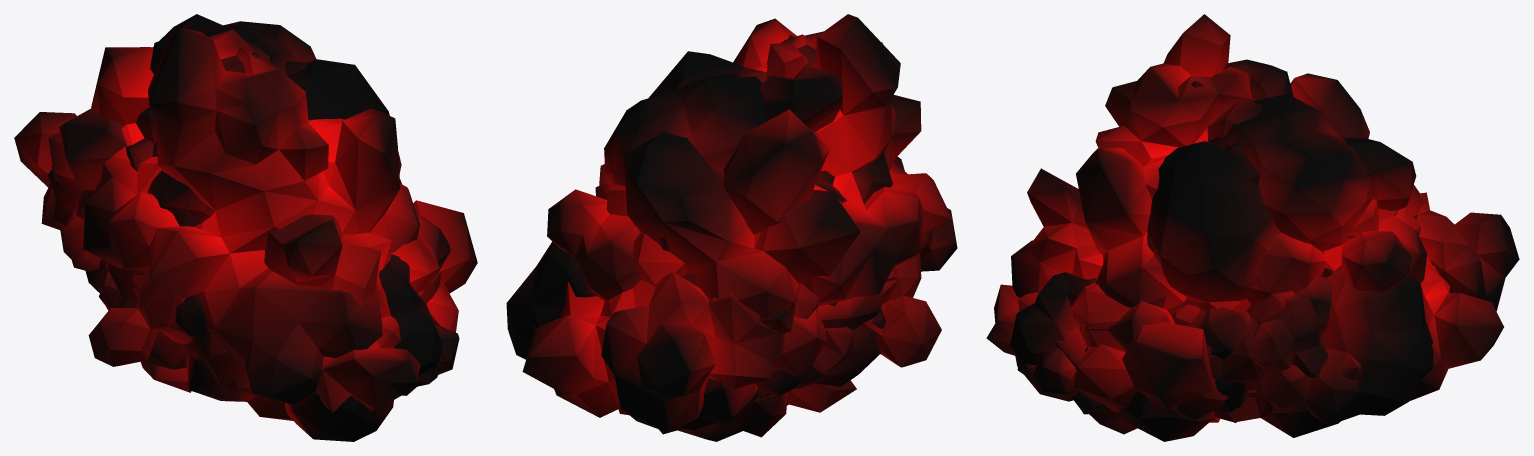
Rendered from Clouds_L.fbx.
The picture shows the model from 3 angles, left to right: view 1: azimuth 30°, elevation 25°; view 2: azimuth 150°, elevation 25°; view 3: azimuth 270°, elevation 25°; orthographic projection. The views are drawn at different scales.
Visible parts, largest first — view 1: Cloud_L_05, Cloud_L_07, Cloud_L_08, Cloud_L_09, Cloud_L_03, Cloud_L_06, Cloud_L_04, Cloud_L_02, Cloud_L_01; view 2: Cloud_L_05, Cloud_L_07, Cloud_L_09, Cloud_L_03, Cloud_L_08, Cloud_L_04, Cloud_L_02, Cloud_L_06; view 3: Cloud_L_05, Cloud_L_07, Cloud_L_09, Cloud_L_08, Cloud_L_03, Cloud_L_04, Cloud_L_01, Cloud_L_06, Cloud_L_02.
Boxes of the visible parts, x1,y1,x2,y2 form: Cloud_L_05: (14,27,419,404); Cloud_L_07: (48,14,477,413); Cloud_L_08: (47,59,450,389); Cloud_L_09: (136,21,459,441); Cloud_L_03: (88,223,202,366); Cloud_L_06: (85,141,442,376); Cloud_L_04: (140,37,293,420); Cloud_L_02: (99,61,416,395); Cloud_L_01: (138,178,402,336); Cloud_L_05: (601,14,957,432); Cloud_L_07: (522,94,921,434); Cloud_L_09: (547,72,837,381); Cloud_L_03: (506,197,941,367); Cloud_L_08: (525,51,892,425); Cloud_L_04: (678,35,856,441); Cloud_L_02: (680,74,885,430); Cloud_L_06: (759,170,834,405); Cloud_L_05: (1011,14,1519,422); Cloud_L_07: (986,137,1503,414); Cloud_L_09: (1015,93,1427,401); Cloud_L_08: (1017,141,1433,383); Cloud_L_03: (1172,265,1432,425); Cloud_L_04: (1088,59,1340,441); Cloud_L_01: (1161,295,1328,419); Cloud_L_06: (1010,272,1332,365); Cloud_L_02: (1071,142,1260,414).
Size of the model in its own units: 1060 by 1134 by 1522.
